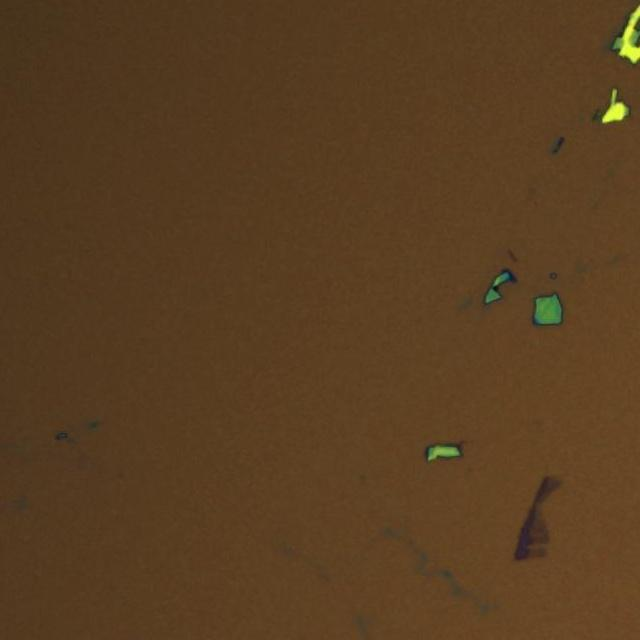monolayer-eWW4: (528, 498, 550, 560)
